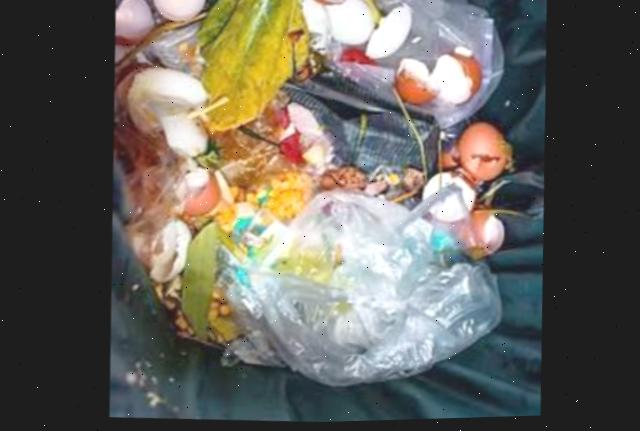Garbage: (111, 0, 506, 387)
Plastic_Bag: (227, 191, 498, 384), (375, 0, 503, 128), (282, 62, 420, 173), (413, 118, 436, 176)
